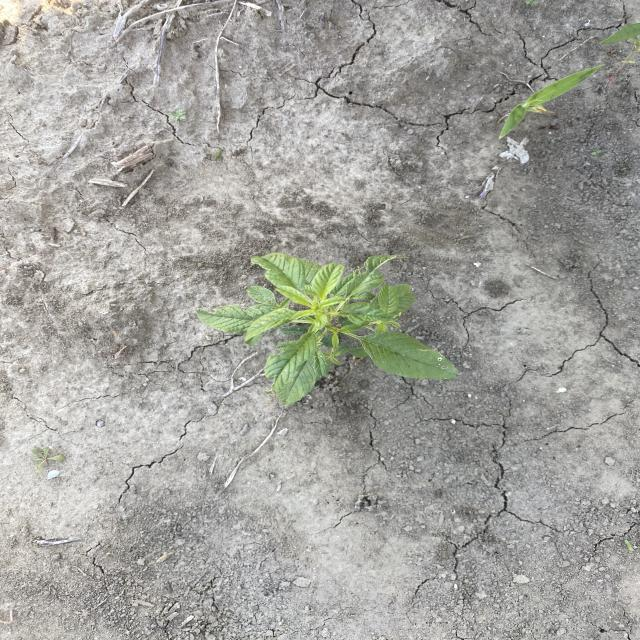Waterhemp: (193, 250, 462, 411)
